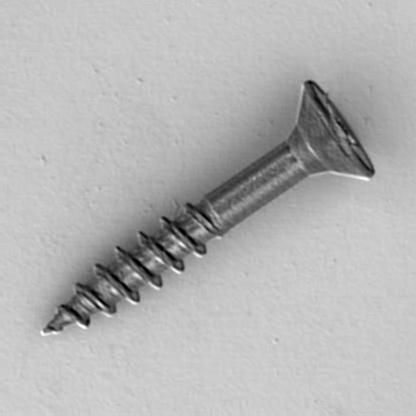metal: (39, 78, 375, 336)
